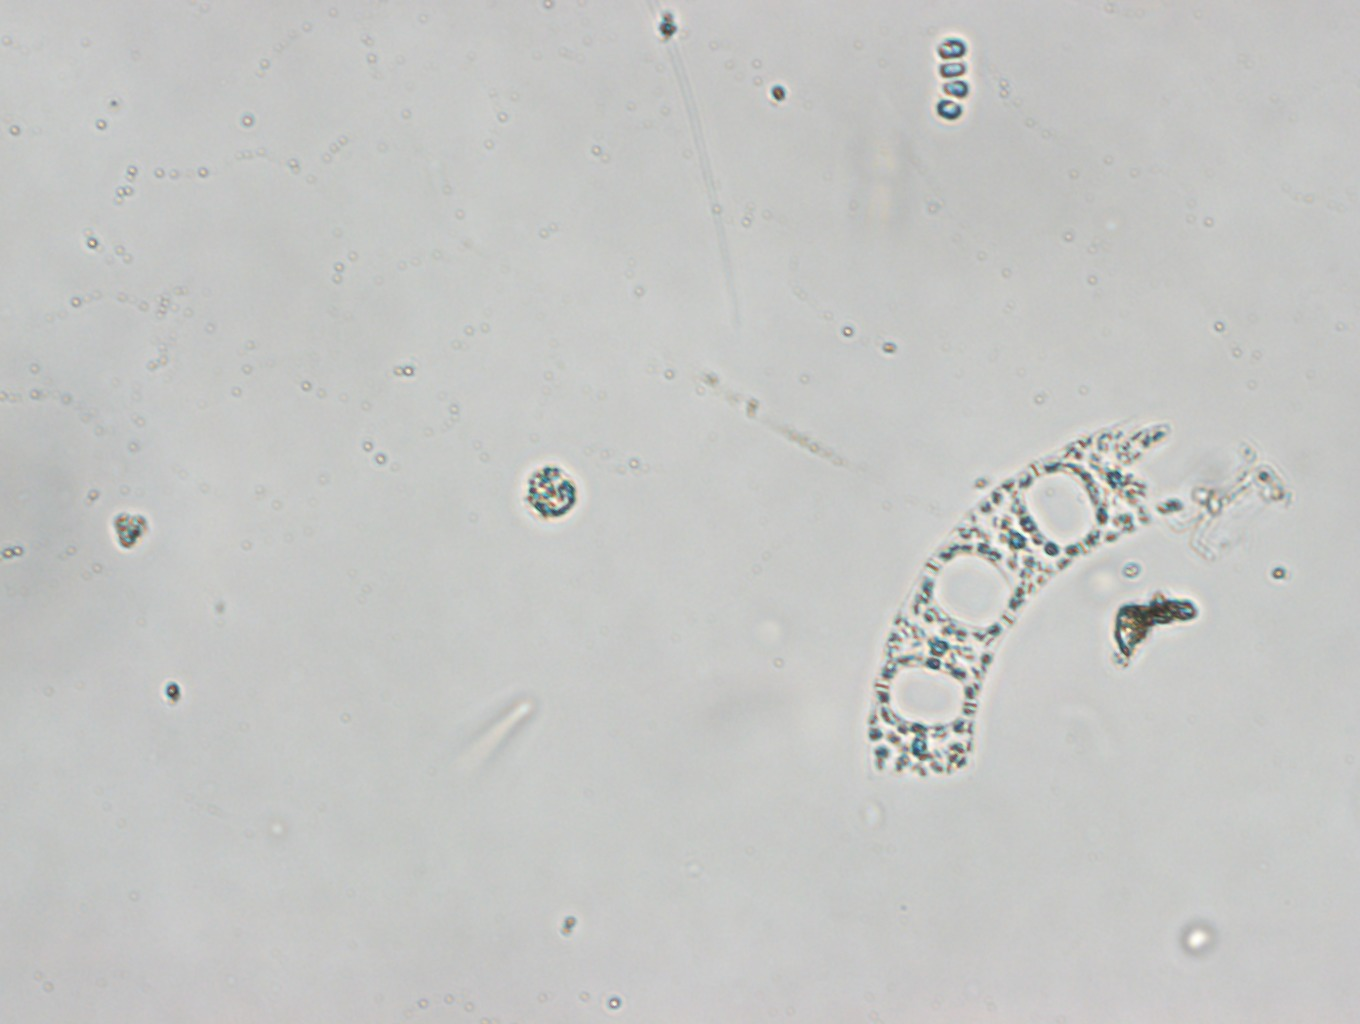eucampia: (868, 417, 1165, 778)
skeletonema: (933, 33, 968, 125)
